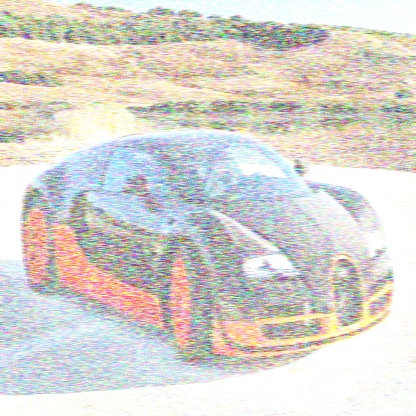Vehicle: (18, 130, 395, 370)
